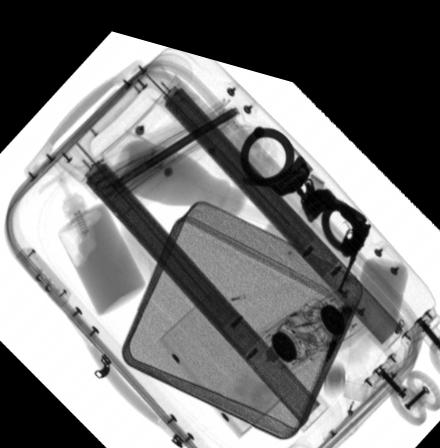Bullet: (322, 285, 353, 347)
Gun: (335, 185, 370, 273)
HandCuffs: (239, 110, 368, 237)
